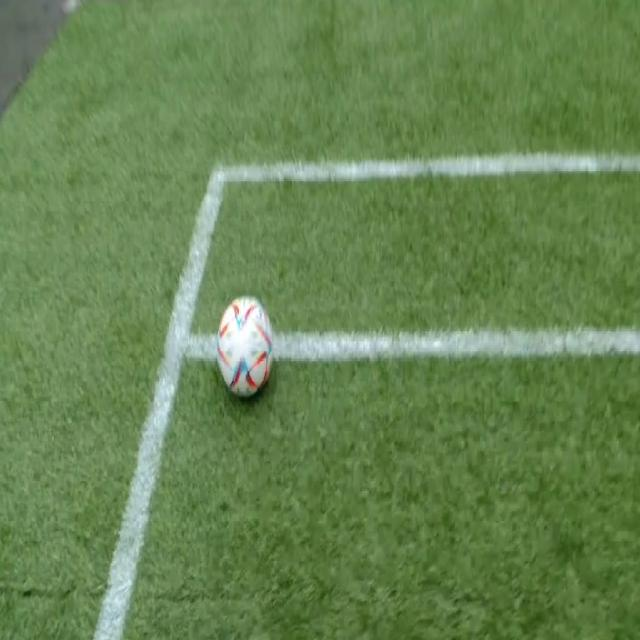ball: (218, 295, 274, 399)
